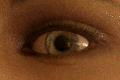eye: (45, 32, 79, 54)
